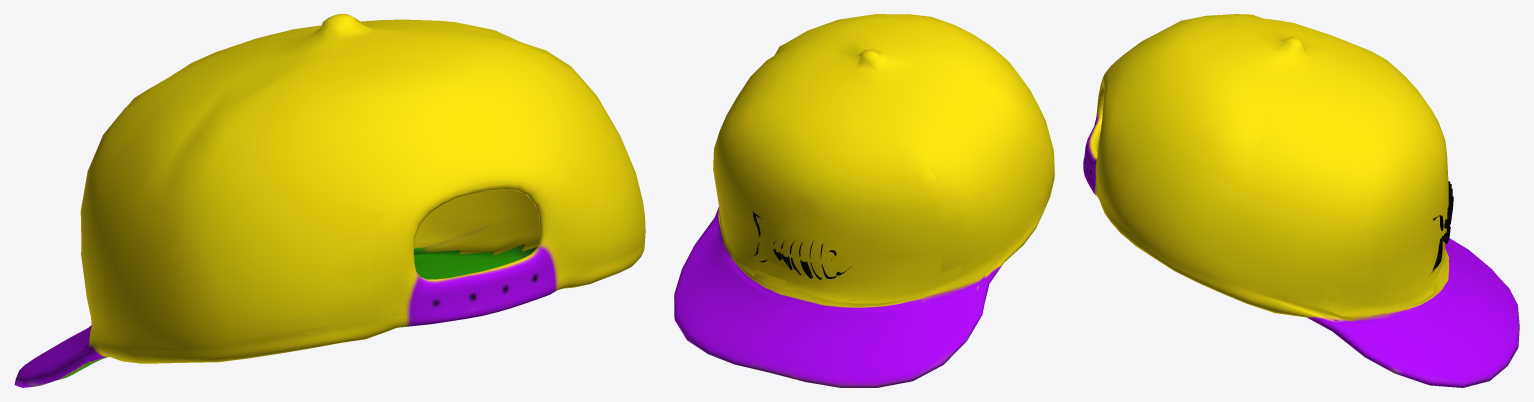
The model's file is Backwards-Hat-Yellow-Purple.glb.
3 renders of one model, left to right at view 1: azimuth 30°, elevation 25°; view 2: azimuth 150°, elevation 25°; view 3: azimuth 270°, elevation 25°, orthographic. The views are drawn at different scales.
Visible parts, largest first — view 1: Mesh0.002; view 2: Mesh0.002; view 3: Mesh0.002.
Part boxes in pixels (x1,y1,x2,y2): Mesh0.002: [14, 14, 645, 387]; Mesh0.002: [674, 14, 1054, 387]; Mesh0.002: [1083, 14, 1519, 387].
Bounding box in the file's own units: 0.4602 × 0.383 × 0.5208.
Materials: 2 (1 with a texture image).
